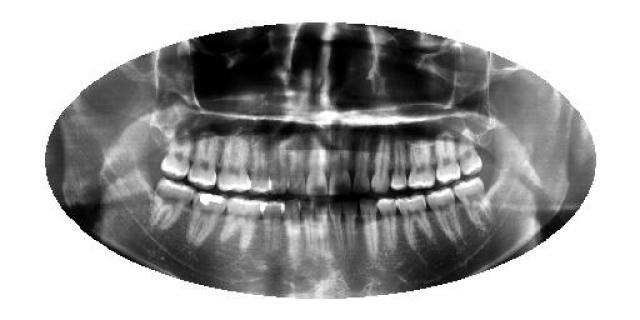Fillings: (186, 192, 225, 246)
